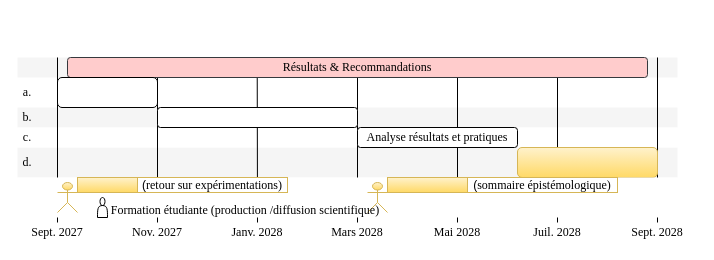
Image size: 714x260. Some labels were removed from this diagram. Each missing label, with the centre of its shape:
Adaptation workflows à chaque projet: [257,117]
Formalisation workflows: [107,92]
R. Plénière: [107,184]
R. Stratégique: [427,184]
Rapport d'évaluation final (+publication): [587,162]
